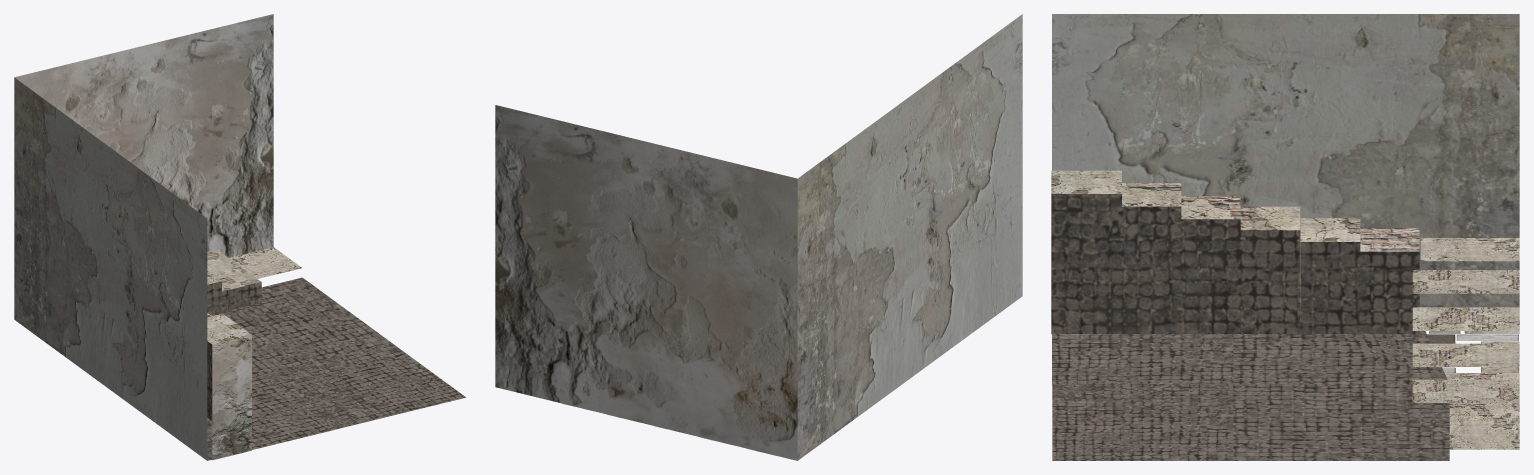
The model's file is street2_house3 1.fbx.
3 views of the same model, side by side, from view 1: azimuth 30°, elevation 25°; view 2: azimuth 150°, elevation 25°; view 3: azimuth 270°, elevation 25° (orthographic). The views are drawn at different scales.
Parts seen in each view (by area): view 1: Plane; view 2: Plane; view 3: Plane.
Part boxes in pixels (left/top/right/bottom): Plane: left=14, top=14, right=465, bottom=460; Plane: left=495, top=14, right=1022, bottom=460; Plane: left=1051, top=14, right=1519, bottom=460.
Size of the model in its own units: 1306 by 1168 by 1687.
